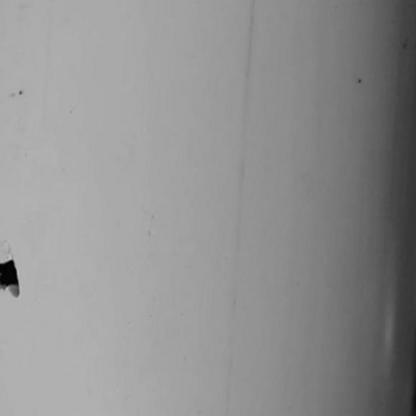kongdong: (1, 251, 31, 296)
